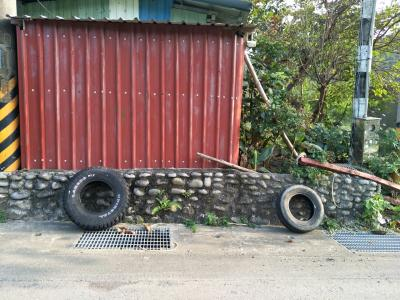tire: (60, 166, 133, 234), (274, 181, 325, 237)
